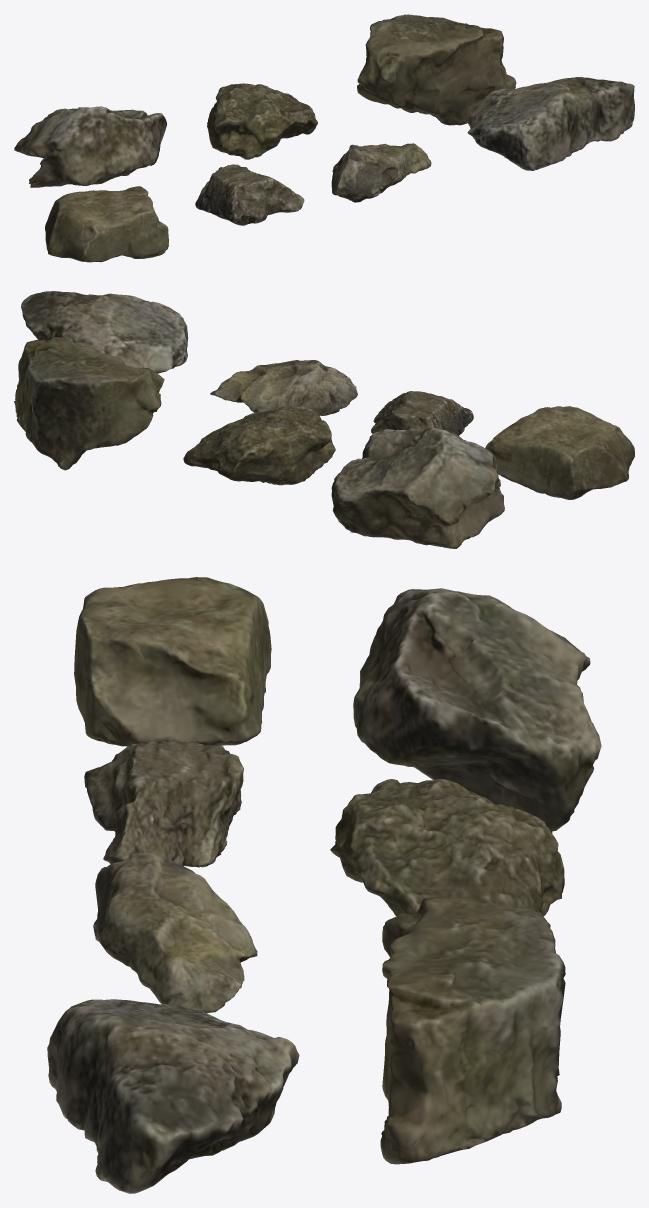
File: rock_moss_set_02.glb
The picture shows the model from 3 angles, top to bottom: view 1: azimuth 30°, elevation 25°; view 2: azimuth 150°, elevation 25°; view 3: azimuth 270°, elevation 25°; orthographic projection. The views are drawn at different scales.
Visible parts, largest first — view 1: rock_moss_set_02_rock13, rock_moss_set_02_rock10, rock_moss_set_02_rock11, rock_moss_set_02_rock07, rock_moss_set_02_rock12, rock_moss_set_02_rock08, rock_moss_set_02_rock09; view 2: rock_moss_set_02_rock11, rock_moss_set_02_rock13, rock_moss_set_02_rock07, rock_moss_set_02_rock10, rock_moss_set_02_rock12, rock_moss_set_02_rock09, rock_moss_set_02_rock08; view 3: rock_moss_set_02_rock13, rock_moss_set_02_rock11, rock_moss_set_02_rock10, rock_moss_set_02_rock07, rock_moss_set_02_rock12, rock_moss_set_02_rock09, rock_moss_set_02_rock08.
Boxes of the visible parts, x1,y1,x2,y2 form: rock_moss_set_02_rock13: (357, 14, 516, 125); rock_moss_set_02_rock10: (467, 77, 634, 170); rock_moss_set_02_rock11: (14, 106, 166, 187); rock_moss_set_02_rock07: (45, 186, 168, 262); rock_moss_set_02_rock12: (207, 83, 317, 159); rock_moss_set_02_rock08: (195, 164, 304, 225); rock_moss_set_02_rock09: (331, 143, 431, 202); rock_moss_set_02_rock11: (331, 427, 504, 548); rock_moss_set_02_rock13: (14, 337, 164, 470); rock_moss_set_02_rock07: (485, 406, 634, 499); rock_moss_set_02_rock10: (21, 291, 188, 373); rock_moss_set_02_rock12: (183, 406, 335, 485); rock_moss_set_02_rock09: (210, 360, 357, 415); rock_moss_set_02_rock08: (371, 391, 473, 435); rock_moss_set_02_rock13: (380, 895, 565, 1164); rock_moss_set_02_rock11: (353, 588, 601, 833); rock_moss_set_02_rock10: (47, 999, 299, 1193); rock_moss_set_02_rock07: (74, 577, 271, 746); rock_moss_set_02_rock12: (330, 779, 564, 927); rock_moss_set_02_rock09: (93, 851, 257, 1013); rock_moss_set_02_rock08: (84, 741, 243, 867).
Bounding box in the file's own units: 8.28 × 1.37 × 3.41.
1 material, 1 textured.
